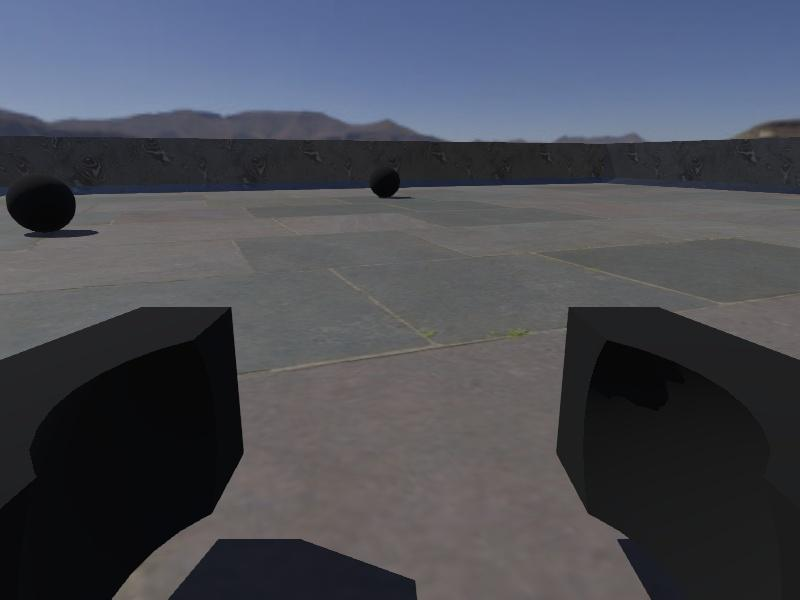black ball: (6, 172, 76, 234), (368, 164, 402, 198)
